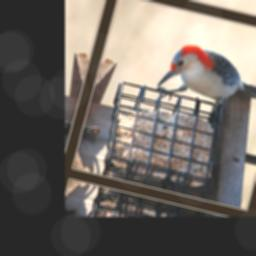Woodpecker: (154, 39, 256, 125)
